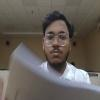notebook: (1, 41, 99, 99)
